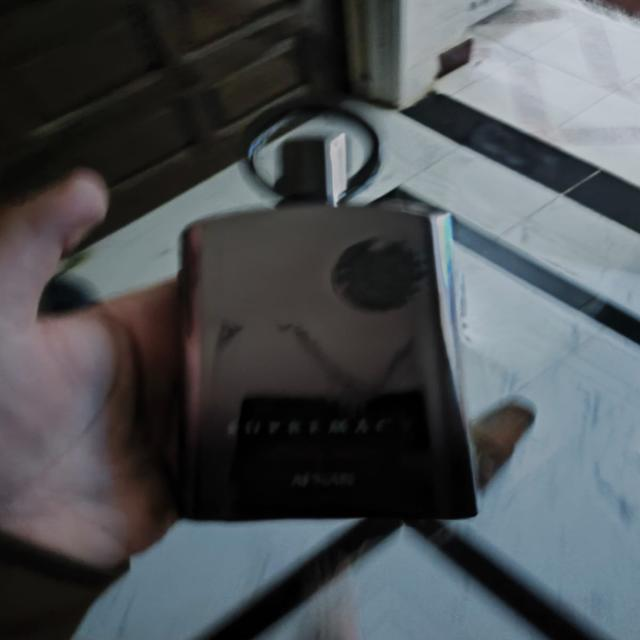Afnan: (169, 104, 481, 523)
